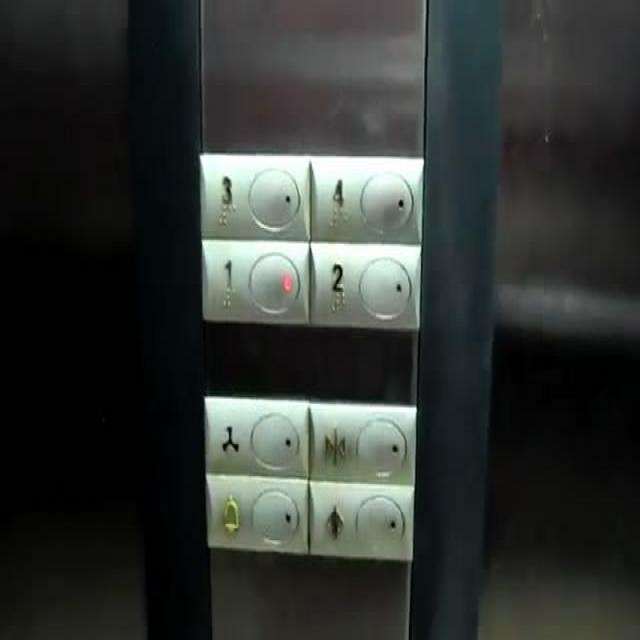1: (196, 233, 313, 329)
2: (307, 236, 422, 333)
3: (195, 146, 313, 246)
4: (308, 146, 426, 246)
alarm: (200, 467, 310, 557)
close: (302, 394, 418, 490)
fan: (200, 388, 312, 481)
open: (304, 471, 416, 565)
